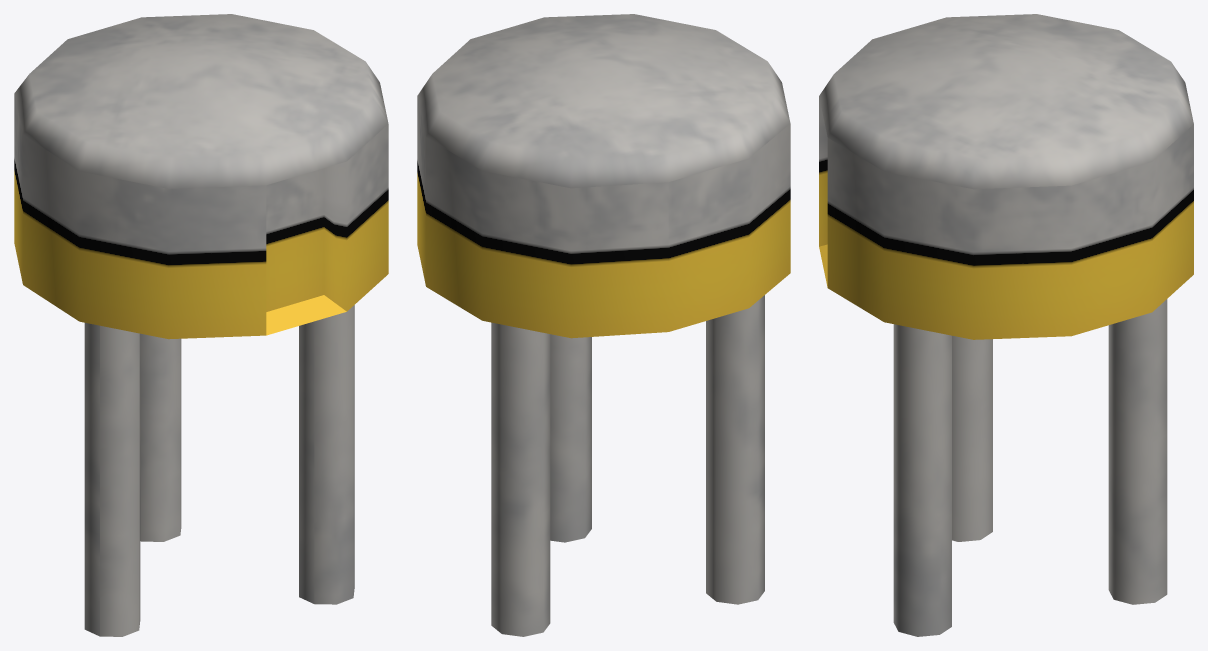
Rendered from Refuel_04.fbx.
The picture shows the model from 3 angles, left to right: view 1: azimuth 30°, elevation 25°; view 2: azimuth 150°, elevation 25°; view 3: azimuth 270°, elevation 25°; orthographic projection.
Parts seen in each view (by area): view 1: Refuel_04; view 2: Refuel_04; view 3: Refuel_04.
Part boxes in pixels (left/top/right/bottom): Refuel_04: left=14, top=14, right=388, bottom=636; Refuel_04: left=417, top=14, right=790, bottom=636; Refuel_04: left=819, top=14, right=1193, bottom=636.
Bounding box in the file's own units: 14.39 × 22.08 × 14.39.
